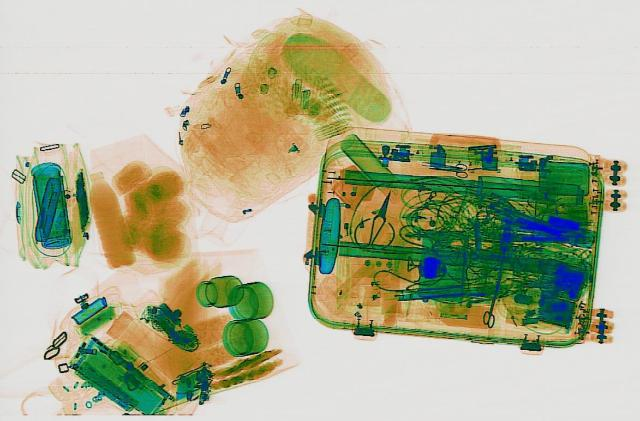Scissors: (348, 188, 408, 251), (477, 270, 507, 328), (426, 161, 470, 177)
